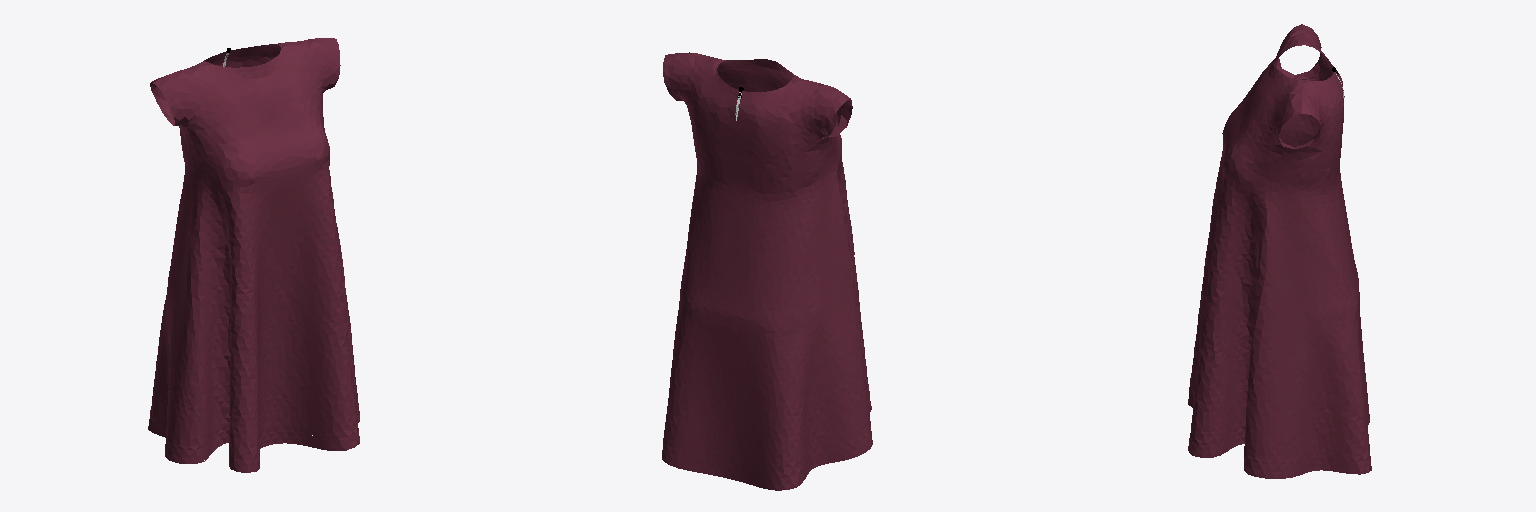
The picture shows the model from 3 angles: view 1: azimuth 30°, elevation 25°; view 2: azimuth 150°, elevation 25°; view 3: azimuth 270°, elevation 25°; orthographic projection.
Parts seen in each view (by area): view 1: small_looseBurgandy_noinside:polySurface2 small_looseBurgandy_no; view 2: small_looseBurgandy_noinside:polySurface2 small_looseBurgandy_no; view 3: small_looseBurgandy_noinside:polySurface2 small_looseBurgandy_no.
Part boxes in pixels (bbox=[...]): small_looseBurgandy_noinside:polySurface2 small_looseBurgandy_no: bbox=[148, 38, 359, 472]; small_looseBurgandy_noinside:polySurface2 small_looseBurgandy_no: bbox=[662, 52, 872, 490]; small_looseBurgandy_noinside:polySurface2 small_looseBurgandy_no: bbox=[1188, 24, 1371, 478].
Bounding box in the file's own units: 4.31 × 8.48 × 3.64.
Materials: 11 (3 with a texture image).